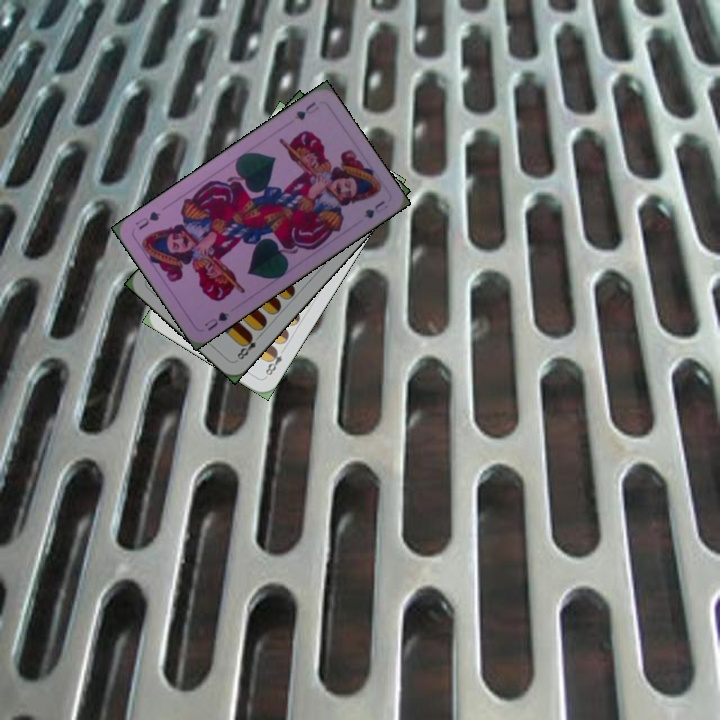E8: (233, 330, 264, 362), (261, 344, 288, 380)
GU: (200, 307, 232, 334), (291, 98, 322, 123)
